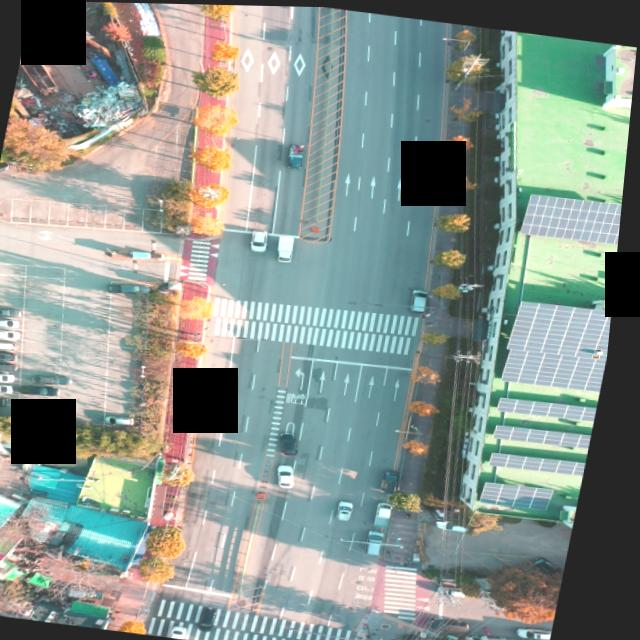car: (526, 619, 565, 639), (443, 514, 487, 531), (116, 279, 160, 295), (444, 580, 483, 597), (372, 526, 394, 552), (25, 383, 65, 397), (283, 462, 305, 486), (286, 429, 308, 453), (207, 603, 228, 628), (415, 286, 436, 310), (42, 371, 78, 384), (545, 553, 571, 570), (254, 228, 274, 250), (0, 306, 28, 319), (0, 326, 27, 339), (346, 499, 364, 518), (0, 349, 24, 363), (0, 337, 25, 350), (0, 316, 26, 328), (114, 415, 144, 425), (0, 359, 23, 372), (0, 369, 21, 381), (0, 382, 20, 394), (182, 624, 199, 638), (0, 394, 17, 407)
small_truck: (277, 232, 305, 263), (443, 613, 484, 630), (383, 499, 404, 525), (287, 140, 307, 167), (388, 467, 410, 491)
